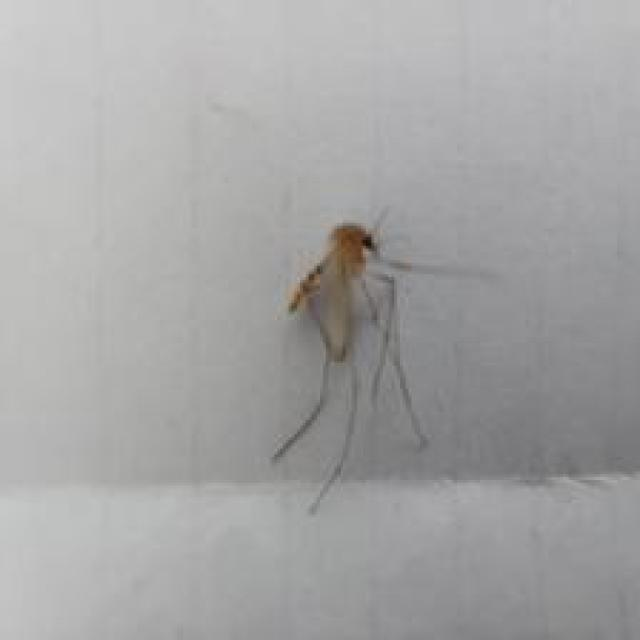Culex: (270, 206, 499, 514)
